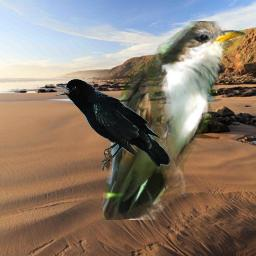Crow: (54, 79, 170, 171)
Cuckoo: (103, 21, 246, 220)
